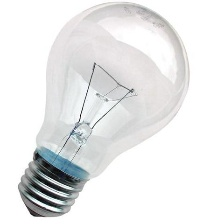light_bulb: (15, 0, 192, 220)
